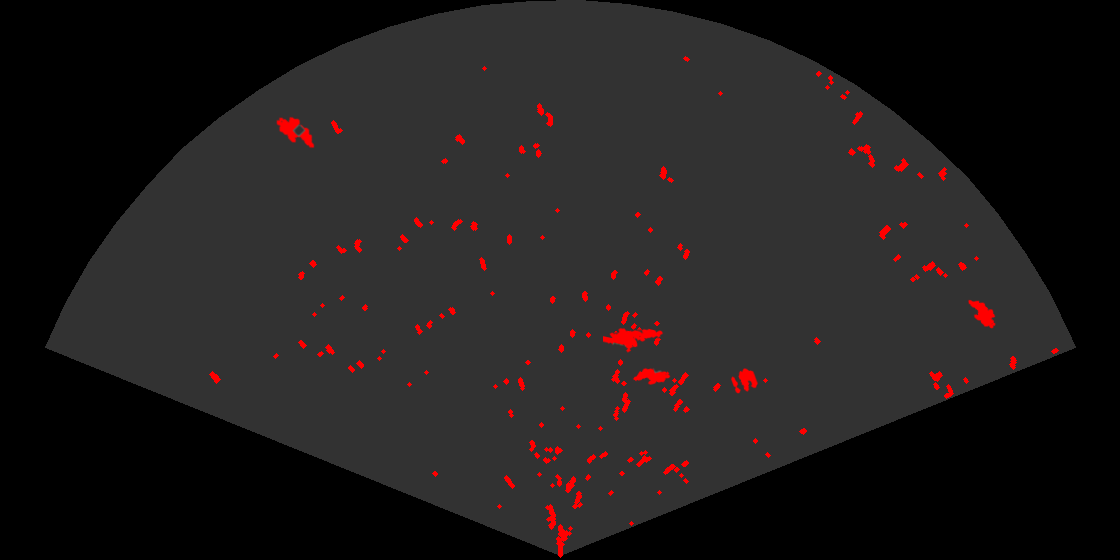AUV: (275, 115, 316, 150), (966, 298, 997, 330), (631, 366, 672, 386)
ball: (729, 367, 760, 395)
frogman: (603, 326, 664, 354)
